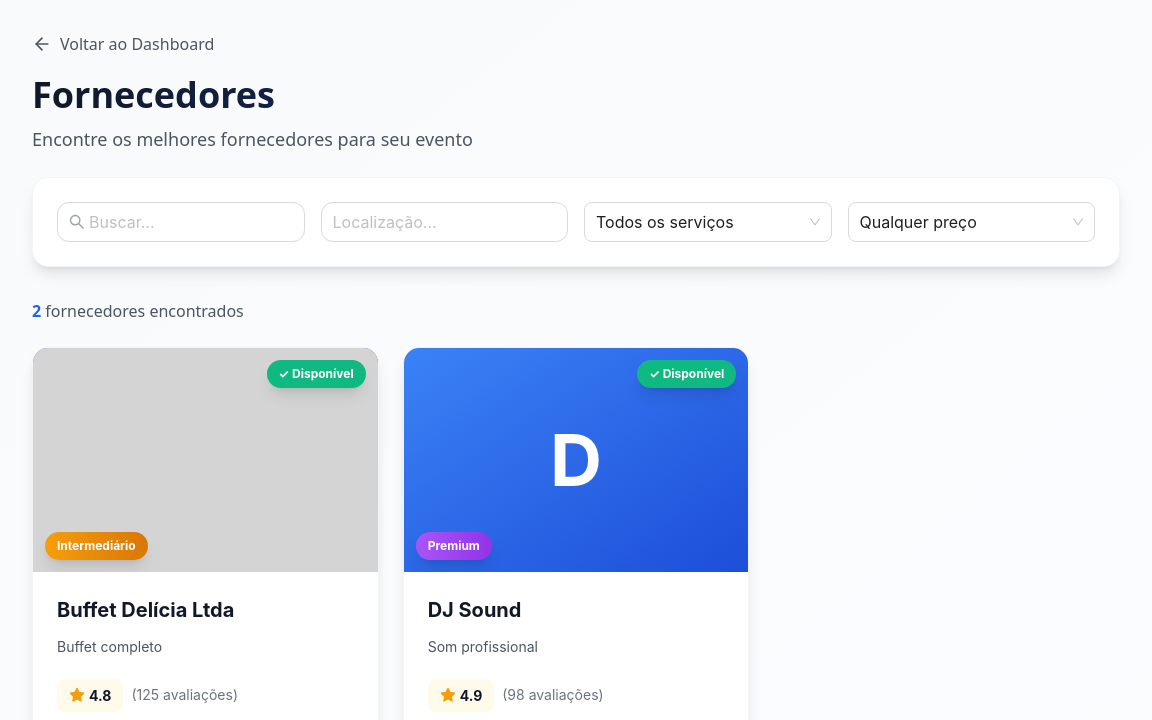
it: Suppliers › should filter suppliers by search query
Check: the heading "Buffet Delícia Ltda" is shown, box [57, 598, 234, 622]
In the field with placeholder "Buscar...": (191, 222) [89, 210, 292, 234], type "DJ"
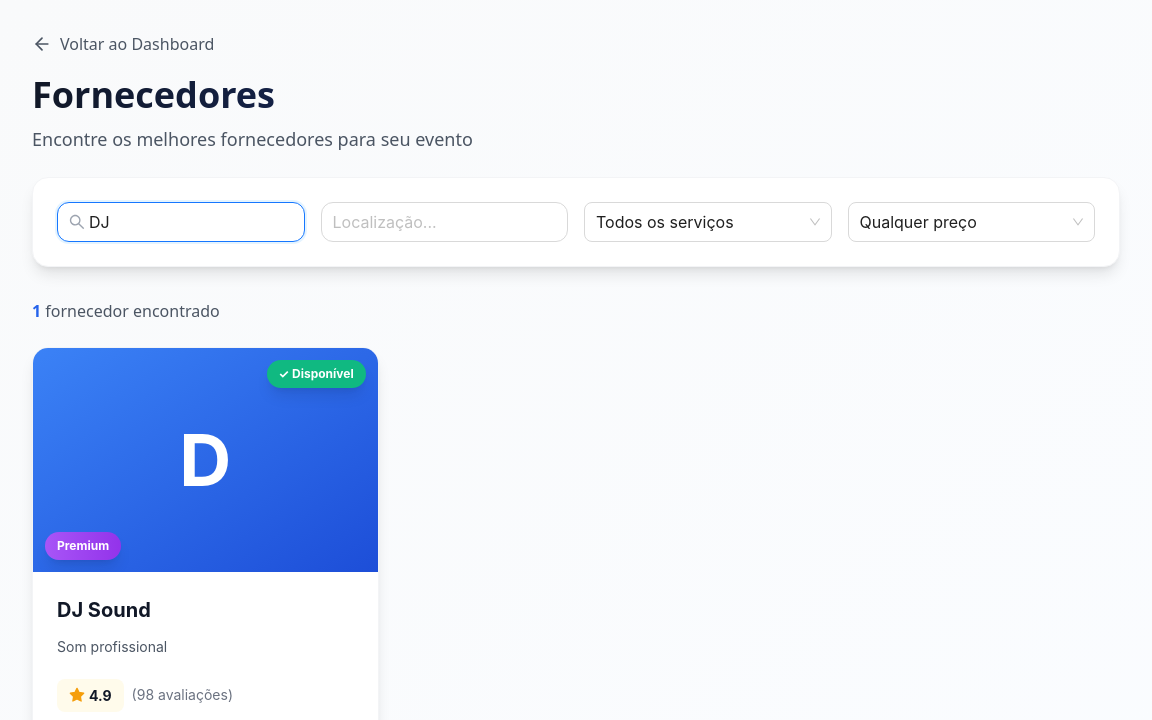
Check: the heading "DJ Sound" is shown, box [57, 598, 151, 622]
Check: the heading "Buffet Delícia Ltda" is gone
